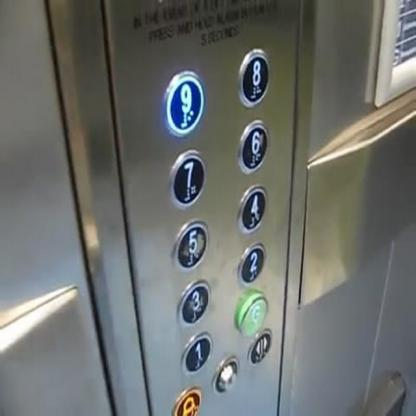1: (178, 328, 214, 377)
2: (235, 239, 266, 287)
3: (174, 276, 211, 328)
4: (235, 181, 269, 236)
5: (169, 217, 209, 273)
6: (234, 117, 270, 177)
7: (165, 146, 207, 210)
8: (235, 45, 271, 110)
9: (160, 68, 206, 140)
G: (232, 288, 269, 337)
alarm: (170, 382, 204, 415)
keyhole: (210, 354, 240, 397)
open: (246, 328, 273, 366)
